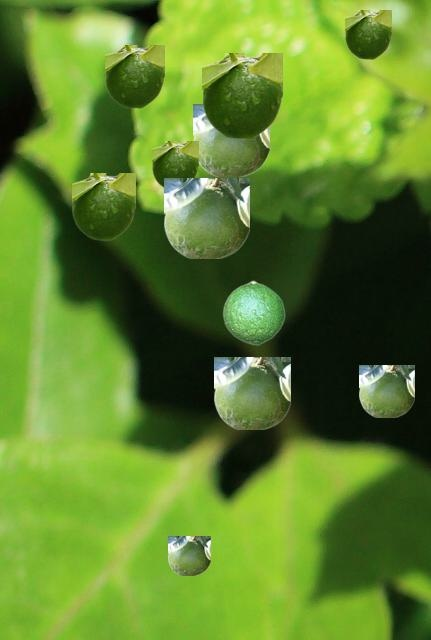dalandan: (202, 53, 281, 138), (164, 178, 248, 257), (193, 104, 268, 175), (214, 357, 289, 428), (72, 173, 134, 239), (222, 280, 284, 344), (105, 45, 163, 107), (359, 365, 413, 416), (345, 10, 390, 58), (152, 141, 197, 188), (168, 536, 209, 574)
